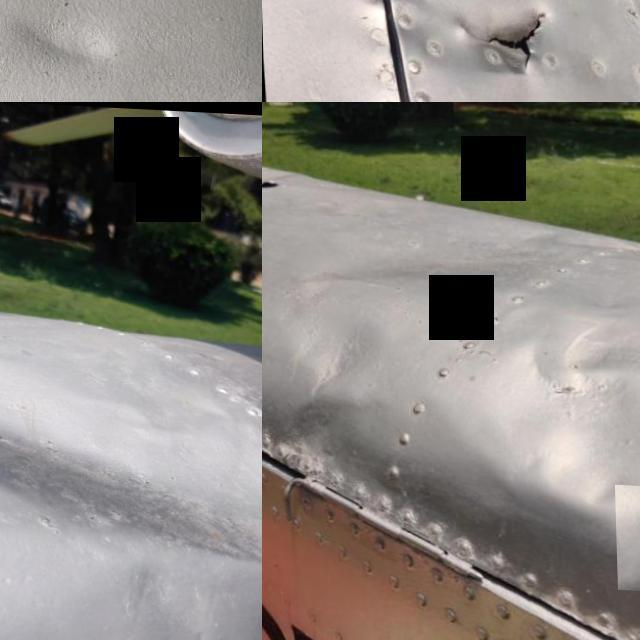Crack: (442, 0, 556, 82)
Dent: (0, 292, 262, 610), (465, 296, 640, 537), (286, 297, 398, 422), (0, 0, 132, 100), (612, 479, 640, 588)
